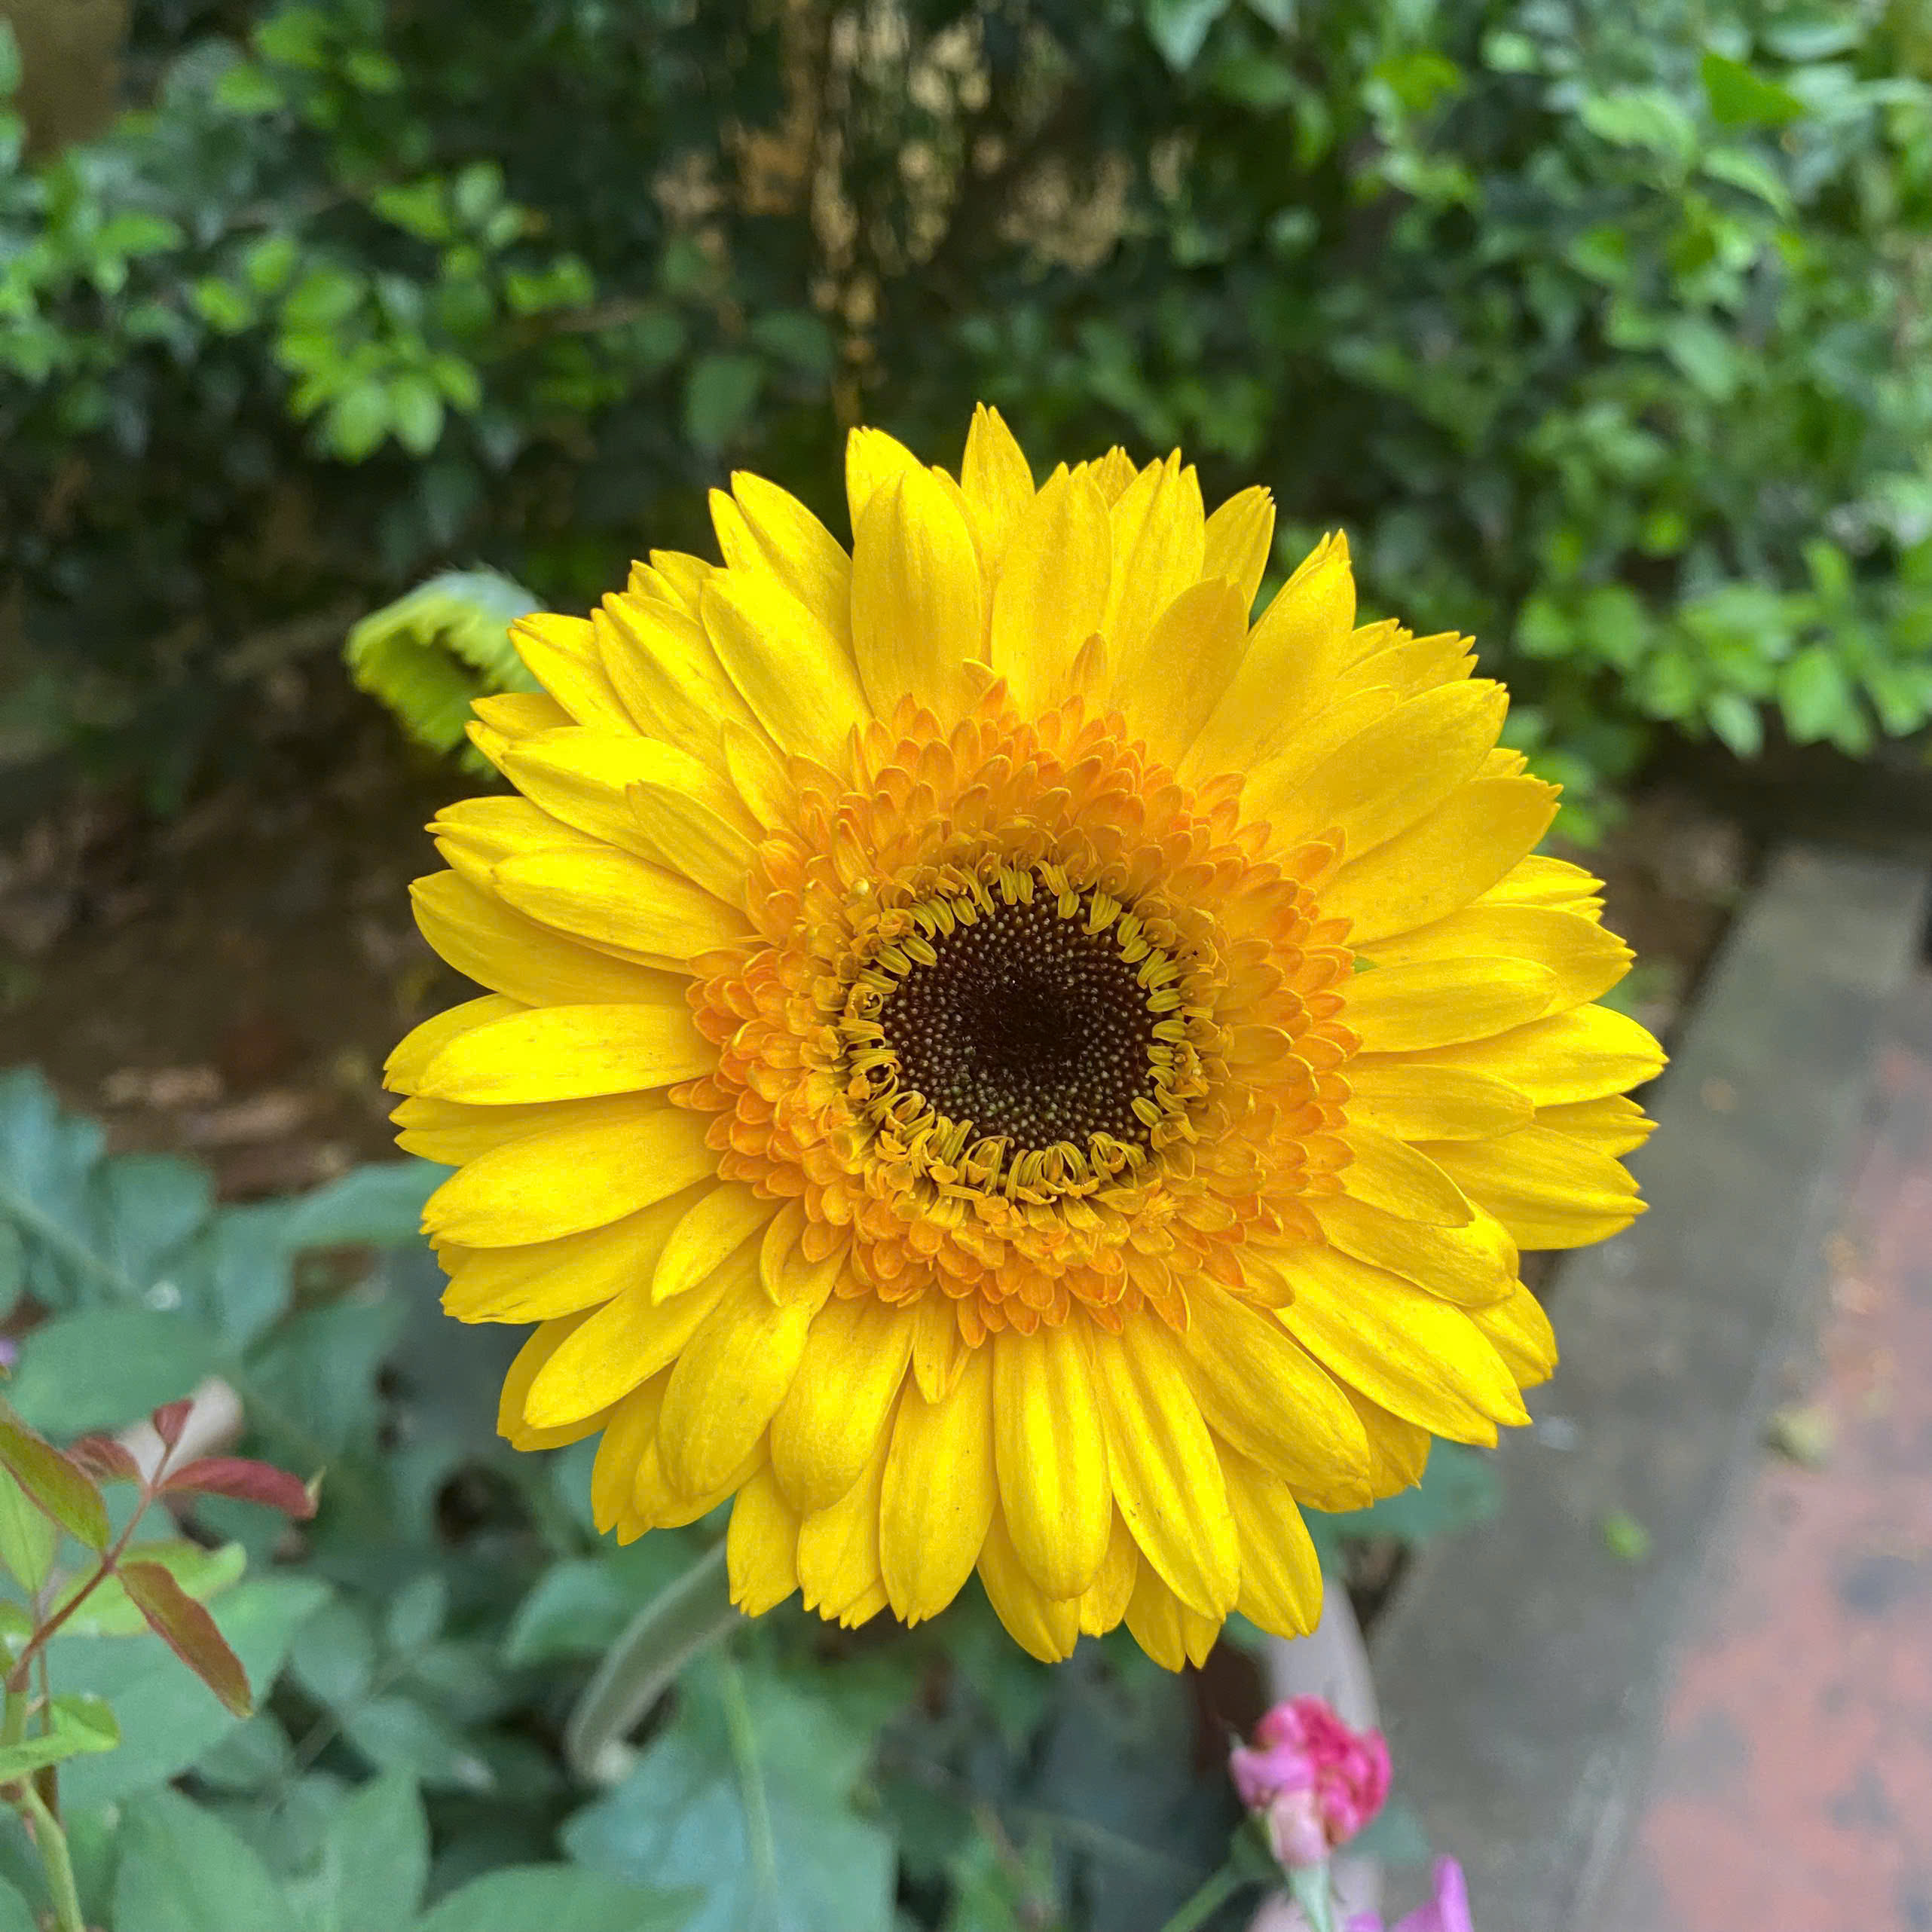hoa_huong_duong: (334, 356, 1759, 1714)
